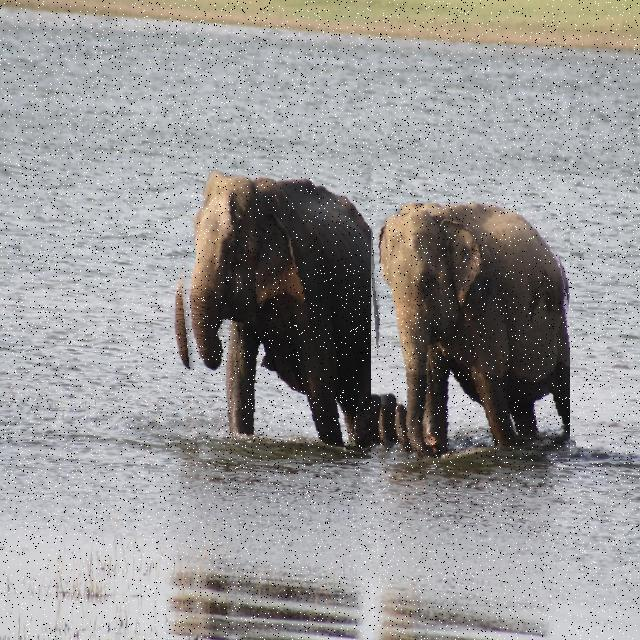elephant: (168, 160, 371, 460), (366, 203, 570, 464)
